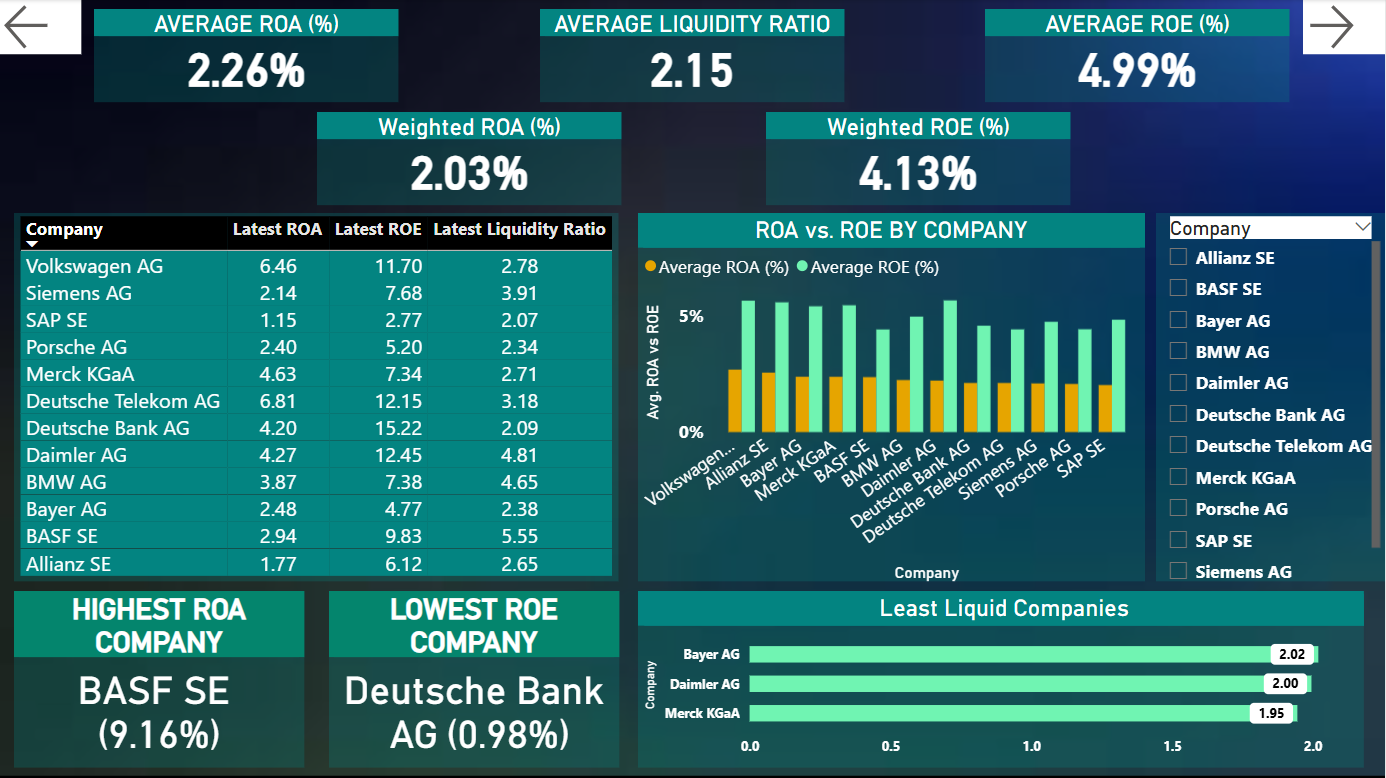

The page's visual inventory and layout, read from the dashboard file:
{"tool":"powerbi","page":{"name":"Performance Ratios Analysis","canvas":[1280,720],"ordinal":1},"visuals":[{"type":"card","title":"AVERAGE LIQUIDITY RATIO","fields":{"Values":["Dashboard Data Source.Average Liquidity Ratio"]},"box":[499.6,9.5,280.7,85.7],"z":0},{"type":"tableEx","fields":{"Values":["Dashboard Data Source.Company","Dashboard Data Source.Latest ROA","Dashboard Data Source.Latest ROE","Dashboard Data Source.Latest Liquidity Ratio"]},"box":[14.3,197.5,557.9,340.2],"z":1000},{"type":"clusteredColumnChart","title":"ROA vs. ROE BY COMPANY","fields":{"Category":["Dashboard Data Source.Company"],"Y":["Dashboard Data Source.Average ROA (%)","Dashboard Data Source.Average ROE (%)"]},"box":[590,197.5,467.5,340.2],"z":2000},{"type":"slicer","fields":{"Values":["Dashboard Data Source.Company"]},"box":[1068.3,197.5,211.7,340.2],"z":3000},{"type":"actionButton","box":[0,0,76.1,51.4],"z":4000},{"type":"actionButton","box":[1203.9,0,76.1,51.4],"z":5000},{"type":"barChart","title":"Least Liquid Companies","fields":{"Category":["Dashboard Data Source.Company"],"Y":["Avg(Dashboard Data Source.Liquidity Ratio)"]},"box":[590,546,669.7,163],"z":6000},{"type":"card","title":"AVERAGE ROA (%)","fields":{"Values":["Dashboard Data Source.Average ROA (%)"]},"box":[88,9.5,280.7,85.7],"z":7000},{"type":"card","title":"AVERAGE ROE (%)","fields":{"Values":["Dashboard Data Source.Average ROE (%)"]},"box":[910,9.5,280.7,85.7],"z":8000},{"type":"card","title":"Weighted ROA (%)","fields":{"Values":["Dashboard Data Source.Weighted ROA"]},"box":[293.8,104.7,280.7,85.7],"z":9000},{"type":"card","title":"Weighted ROE (%)","fields":{"Values":["Dashboard Data Source.Weighted ROE"]},"box":[707.8,104.7,280.7,85.7],"z":10000},{"type":"card","title":"HIGHEST ROA COMPANY","fields":{"Values":["Dashboard Data Source.Highest ROA Company"]},"box":[14.3,546,267.7,163],"z":11000},{"type":"card","title":"LOWEST ROE COMPANY","fields":{"Values":["Dashboard Data Source.Lowest ROE Company"]},"box":[304.5,546,267.7,163],"z":12000}]}

Visuals, with their boxes in screenshot pixels (x1, y1, x2, y2), scaled from the page's 1280x720 canvas onto the 1386x778 screenshot:
"AVERAGE LIQUIDITY RATIO" card: BBox(541, 10, 845, 103)
tableEx - Dashboard Data Source.Company x Dashboard Data Source.Latest ROA: BBox(15, 213, 620, 581)
"ROA vs. ROE BY COMPANY" clusteredColumnChart: BBox(639, 213, 1145, 581)
slicer - Dashboard Data Source.Company: BBox(1157, 213, 1385, 581)
actionButton: BBox(0, 0, 82, 56)
actionButton: BBox(1304, 0, 1385, 56)
"Least Liquid Companies" barChart: BBox(639, 590, 1364, 766)
"AVERAGE ROA (%)" card: BBox(95, 10, 399, 103)
"AVERAGE ROE (%)" card: BBox(985, 10, 1289, 103)
"Weighted ROA (%)" card: BBox(318, 113, 622, 206)
"Weighted ROE (%)" card: BBox(766, 113, 1070, 206)
"HIGHEST ROA COMPANY" card: BBox(15, 590, 305, 766)
"LOWEST ROE COMPANY" card: BBox(330, 590, 620, 766)
